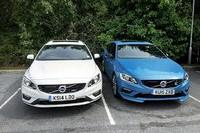car: (102, 40, 191, 109), (20, 39, 103, 111)
